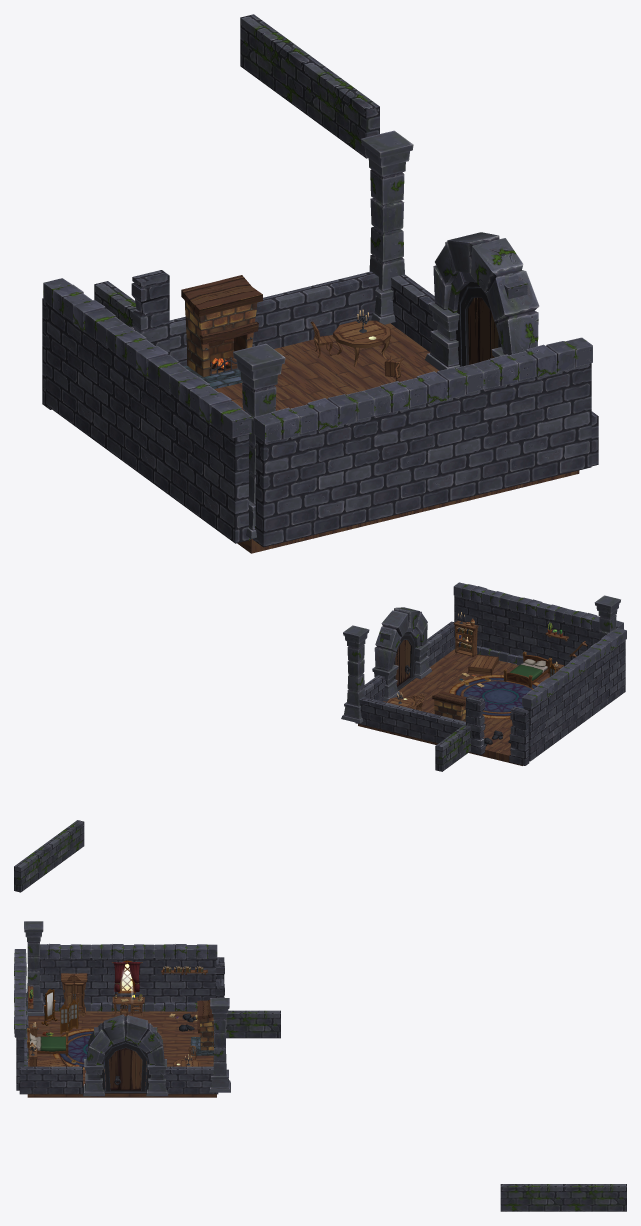
Rendered from Lyriel'sRoom_WithAssets.gltf.
The picture shows the model from 3 angles, top to bottom: view 1: azimuth 30°, elevation 25°; view 2: azimuth 150°, elevation 25°; view 3: azimuth 270°, elevation 25°; orthographic projection. The views are drawn at different scales.
Parts seen in each view (by area): view 1: P_MOD_Wall_01_E_straight_med (×6), P_MOD_WallCover_01_E_straight (1) (×6), P_MOD_Gateway_Arc_01, P_PROP_fireplace_interior, P_MOD_Column_01_large (×2), MOD_Wall_01_E_straight_small, P_MOD_Floor_02_E_straight_med, MOD_Wall_01_E_straight_small (7), MOD_Wall_01_E_straight_small (8), P_MOD_Column_01_capital (×2), MOD_Wall_01_E_straight_med_edge_L, P_MOD_Floor_02_E_straight_med (5) (+6 smaller); view 2: P_MOD_Wall_01_E_straight_med (×6), P_MOD_WallCover_01_E_straight (1) (×6), P_PROP_rug_interior_07, P_MOD_Gateway_Arc_01, MOD_Wall_01_E_straight_small, MOD_Wall_01_E_straight_small (1), MOD_Wall_01_E_straight_small (8), MOD_Wall_01_E_straight_small (4), P_MOD_Column_01_large, P_PROP_bookshelf_interior_01 (×2), MOD_Wall_01_E_straight_med_edge_L (1), P_MOD_Floor_02_E_straight_med (2) (+9 smaller); view 3: P_MOD_Wall_01_E_straight_med (×3), P_MOD_WallCover_01_E_straight (1) (×4), P_MOD_Gateway_Arc_01, MOD_Wall_01_E_straight_small (3), MOD_Gateway_Door_01_med_02_door, MOD_Wall_01_E_straight_small (7), MOD_Wall_01_E_straight_small (8), MOD_Wall_01_E_straight_small (4), P_MOD_Column_01_large (×2), MOD_Wall_01_E_straight_small (2), P_PROP_fireplace_interior, P_MOD_Floor_02_E_straight_med (6) (+8 smaller).
Boxes of the visible parts, bbox=[...] form: P_MOD_Wall_01_E_straight_med (×6): bbox=[46, 302, 591, 547]; P_MOD_WallCover_01_E_straight (1) (×6): bbox=[43, 278, 592, 442]; P_MOD_Gateway_Arc_01: bbox=[433, 232, 539, 355]; P_PROP_fireplace_interior: bbox=[181, 275, 262, 388]; P_MOD_Column_01_large (×2): bbox=[240, 158, 405, 504]; MOD_Wall_01_E_straight_small: bbox=[270, 271, 378, 347]; P_MOD_Floor_02_E_straight_med: bbox=[281, 323, 438, 393]; MOD_Wall_01_E_straight_small (7): bbox=[303, 60, 379, 158]; MOD_Wall_01_E_straight_small (8): bbox=[240, 14, 316, 111]; P_MOD_Column_01_capital (×2): bbox=[233, 130, 413, 380]; MOD_Wall_01_E_straight_med_edge_L: bbox=[130, 270, 169, 354]; P_MOD_Floor_02_E_straight_med (5): bbox=[214, 347, 342, 410]; P_MOD_Wall_01_E_straight_med (×6): bbox=[454, 595, 625, 761]; P_MOD_WallCover_01_E_straight (1) (×6): bbox=[453, 582, 626, 708]; P_PROP_rug_interior_07: bbox=[449, 674, 539, 718]; P_MOD_Gateway_Arc_01: bbox=[374, 607, 427, 671]; MOD_Wall_01_E_straight_small: bbox=[355, 697, 413, 736]; MOD_Wall_01_E_straight_small (1): bbox=[410, 709, 465, 743]; MOD_Wall_01_E_straight_small (8): bbox=[14, 843, 52, 892]; MOD_Wall_01_E_straight_small (4): bbox=[435, 725, 470, 771]; P_MOD_Column_01_large: bbox=[347, 639, 365, 706]; P_PROP_bookshelf_interior_01 (×2): bbox=[453, 620, 498, 675]; MOD_Wall_01_E_straight_med_edge_L (1): bbox=[509, 706, 529, 765]; P_MOD_Floor_02_E_straight_med (2): bbox=[429, 649, 507, 681]; P_MOD_Wall_01_E_straight_med (×3): bbox=[39, 958, 217, 1003]; P_MOD_WallCover_01_E_straight (1) (×4): bbox=[14, 943, 217, 1037]; P_MOD_Gateway_Arc_01: bbox=[86, 1014, 164, 1065]; MOD_Wall_01_E_straight_small (3): bbox=[19, 1066, 82, 1094]; MOD_Gateway_Door_01_med_02_door: bbox=[104, 1042, 146, 1091]; MOD_Wall_01_E_straight_small (7): bbox=[500, 1184, 563, 1211]; MOD_Wall_01_E_straight_small (8): bbox=[564, 1184, 626, 1211]; MOD_Wall_01_E_straight_small (4): bbox=[226, 1010, 280, 1038]; P_MOD_Column_01_large (×2): bbox=[27, 937, 226, 1075]; MOD_Wall_01_E_straight_small (2): bbox=[163, 1066, 218, 1094]; P_PROP_fireplace_interior: bbox=[190, 1000, 213, 1055]; P_MOD_Floor_02_E_straight_med (6): bbox=[154, 1011, 200, 1036].
Size of the model in its own units: 22.74 by 9.99 by 38.84.
20 materials, 20 textured.
